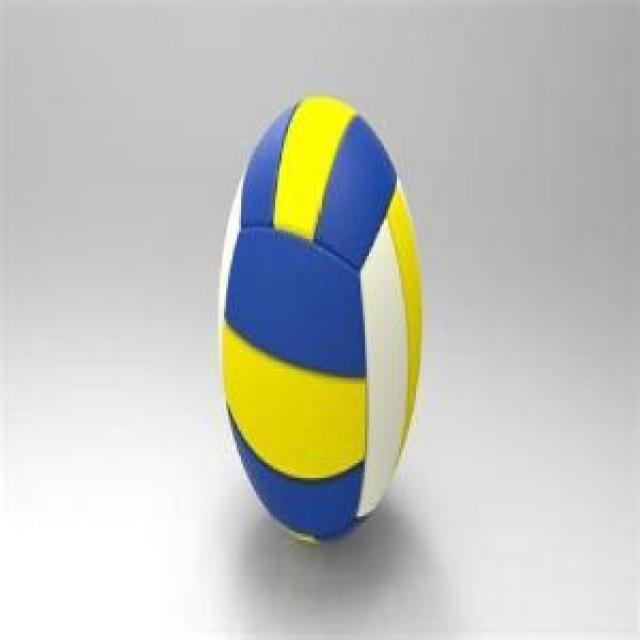volleyball: (218, 97, 422, 545)
